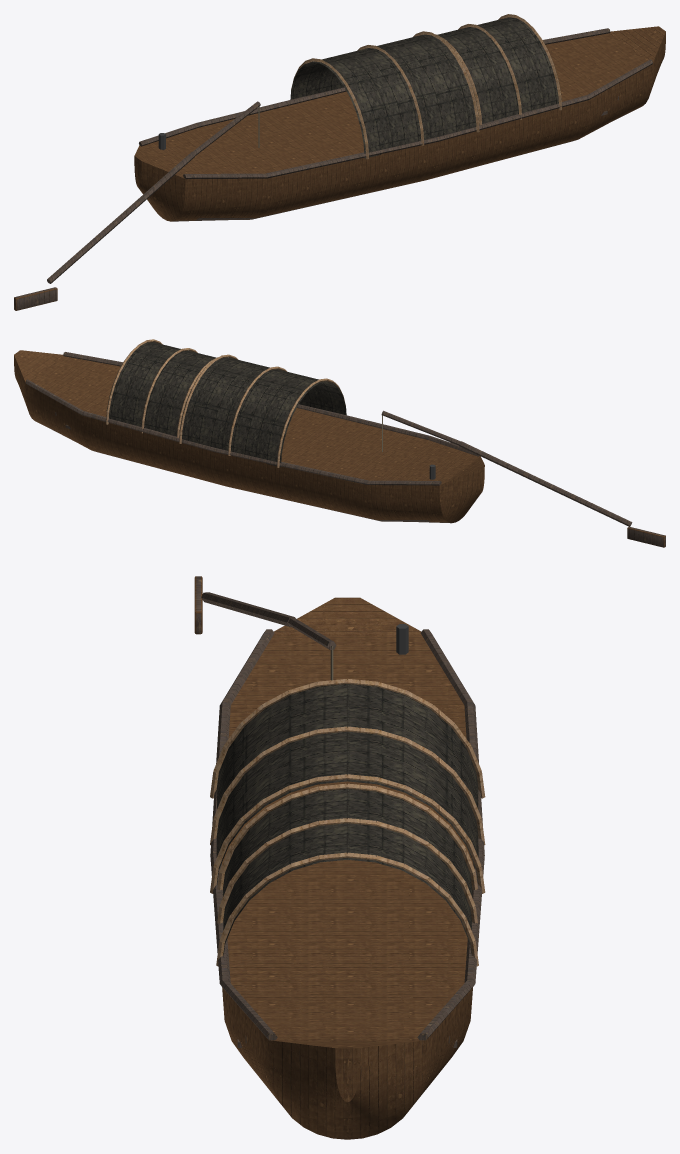
Rendered from wupeng.glb.
3 views of the same model, one above another, from view 1: azimuth 30°, elevation 25°; view 2: azimuth 150°, elevation 25°; view 3: azimuth 270°, elevation 25° (orthographic). The views are drawn at different scales.
Visible parts, largest first — view 1: body, oar; view 2: body, oar; view 3: body, oar.
Boxes of the visible parts, x1,y1,x2,y2 form: body: (134, 14, 665, 221); oar: (14, 101, 260, 310); body: (14, 339, 484, 523); oar: (381, 410, 665, 547); body: (210, 597, 485, 1139); oar: (194, 576, 336, 680).
Size of the model in its own units: 9 by 1.6 by 1.85.
Materials: 6 (4 with a texture image).
